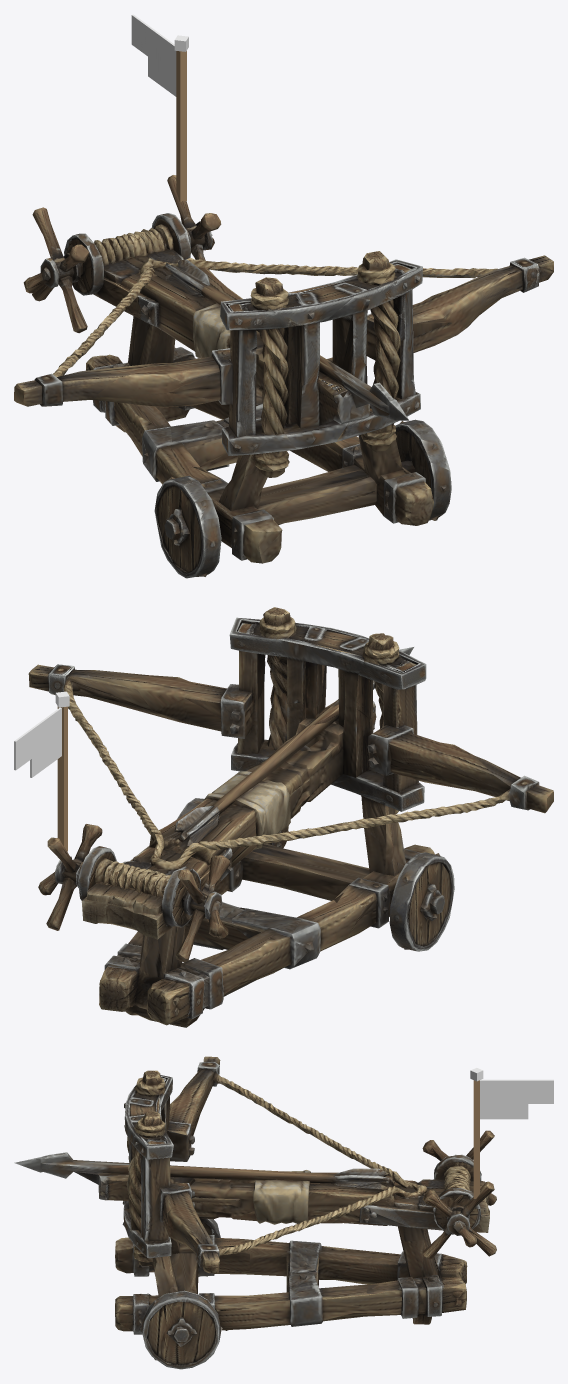
Rendered from ballista.glb.
3 views of the same model, one above another, from view 1: azimuth 30°, elevation 25°; view 2: azimuth 150°, elevation 25°; view 3: azimuth 270°, elevation 25° (orthographic). The views are drawn at different scales.
Parts seen in each view (by area): view 1: ballista, Team_pennant; view 2: ballista, Team_pennant; view 3: ballista, Team_pennant.
Boxes of the visible parts, x1,y1,x2,y2 form: ballista: (14,175,553,578); Team_pennant: (131,14,188,202); ballista: (28,607,553,1027); Team_pennant: (14,691,69,851); ballista: (14,1056,496,1369); Team_pennant: (470,1068,553,1198).
Bounding box in the file's own units: 1.9 × 1.2 × 2.12.
3 materials, 1 textured.
